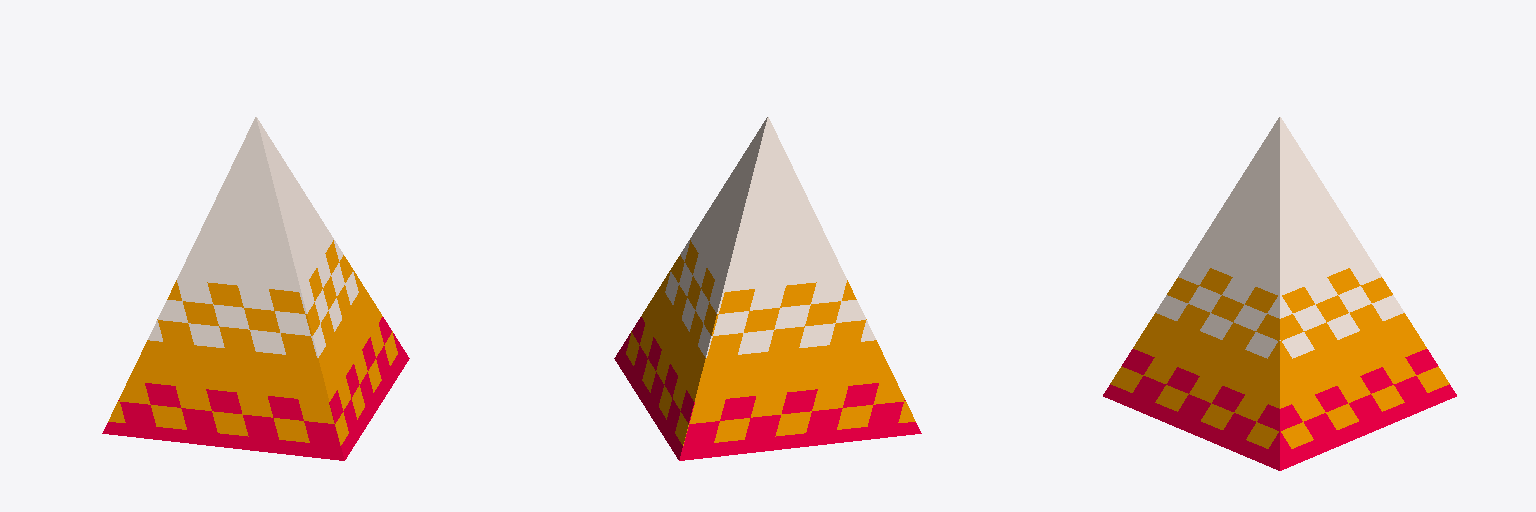
3 views of the same model, side by side, from view 1: azimuth 30°, elevation 25°; view 2: azimuth 150°, elevation 25°; view 3: azimuth 270°, elevation 25° (orthographic).
Visible parts, largest first — view 1: flame_tri; view 2: flame_tri; view 3: flame_tri.
Boxes of the visible parts, box(x1,y1,x2,y2) form: flame_tri: box(102, 117, 409, 460); flame_tri: box(614, 117, 921, 460); flame_tri: box(1103, 117, 1456, 470).
Bounding box in the file's own units: 2 × 1.74 × 2.
Materials: 1 (1 with a texture image).